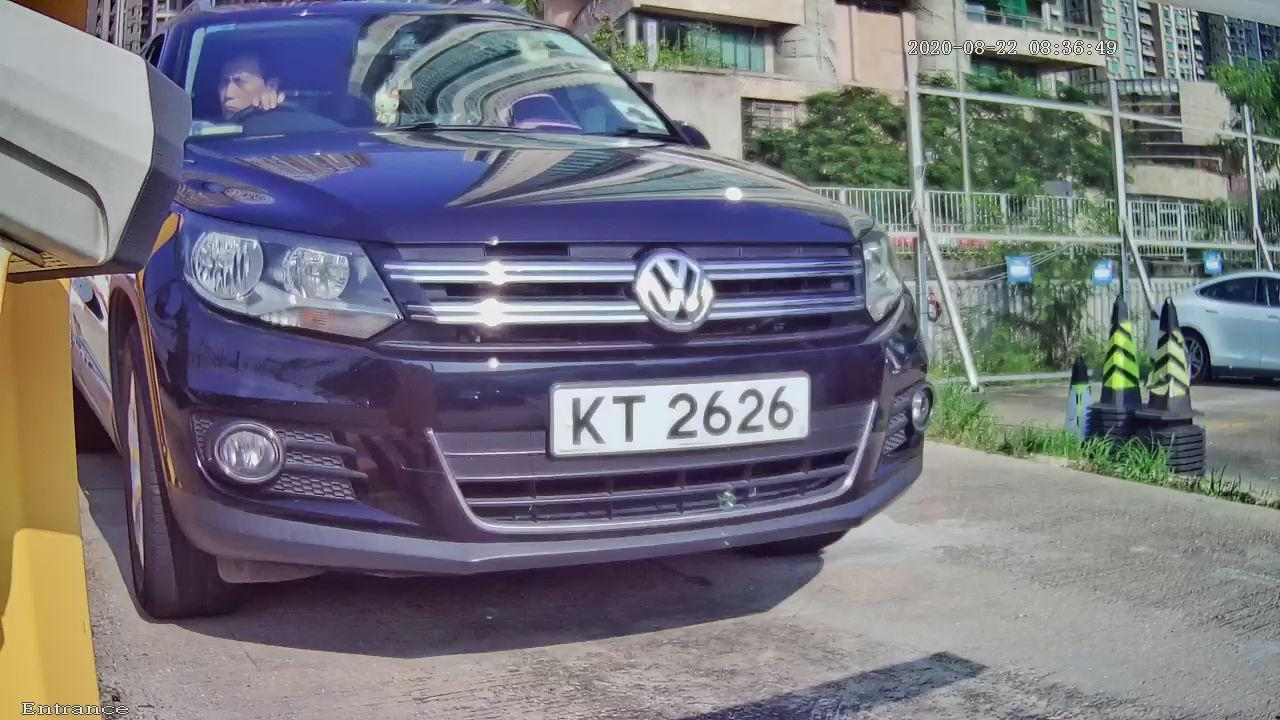Car: (35, 4, 989, 650)
License Plate: (499, 344, 886, 483)
